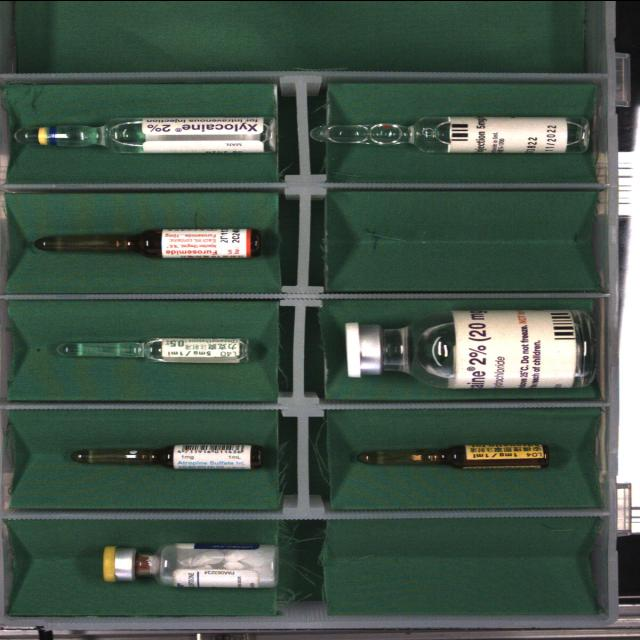Vials: (345, 309, 595, 388), (103, 542, 278, 587)
